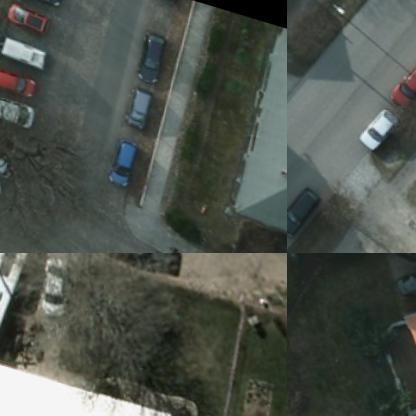camping car: (0, 253, 36, 359)
car: (29, 253, 76, 319), (352, 96, 400, 154), (380, 48, 415, 114), (129, 23, 166, 83), (287, 181, 319, 242), (0, 34, 46, 74), (100, 134, 134, 188), (115, 81, 149, 132), (2, 3, 48, 36), (386, 253, 415, 305), (0, 90, 34, 131), (0, 62, 33, 99), (6, 0, 63, 8), (0, 145, 10, 179)
pickup: (88, 253, 185, 275)
